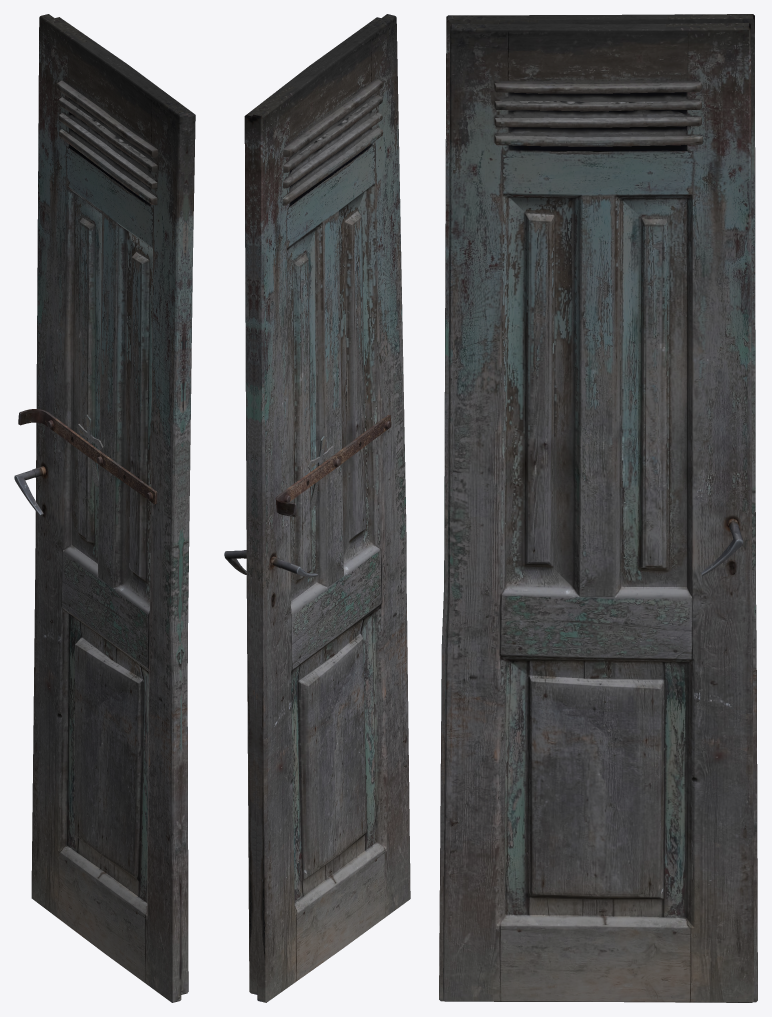
Rendered from sm_Mausoleum_01_06.fbx.
3 views of the same model, side by side, from view 1: azimuth 30°, elevation 25°; view 2: azimuth 150°, elevation 25°; view 3: azimuth 270°, elevation 25° (orthographic). The views are drawn at different scales.
Visible parts, largest first — view 1: sm_Mausoleum_01_06_LOD0; view 2: sm_Mausoleum_01_06_LOD0; view 3: sm_Mausoleum_01_06_LOD0.
Part boxes in pixels (bbox=[...]): sm_Mausoleum_01_06_LOD0: bbox=[14, 14, 195, 1002]; sm_Mausoleum_01_06_LOD0: bbox=[224, 14, 410, 1002]; sm_Mausoleum_01_06_LOD0: bbox=[439, 14, 757, 1002].
Bounding box in the file's own units: 19.81 × 66.07 × 226.
